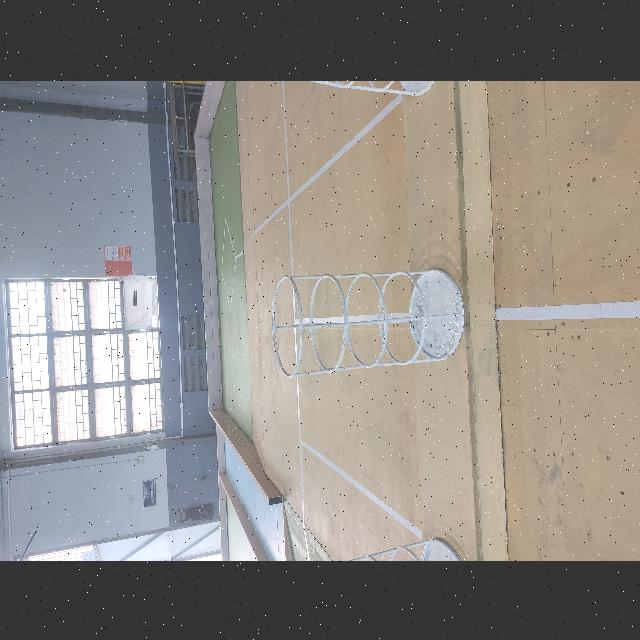S: (270, 265, 465, 378), (341, 533, 465, 560), (298, 80, 439, 101)
